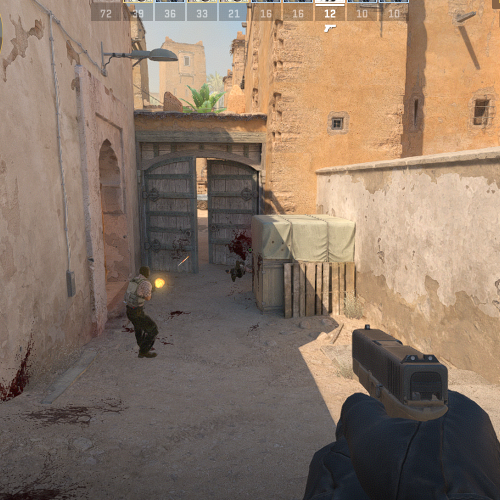t_body: (125, 262, 160, 359)
t_head: (139, 263, 151, 278)
